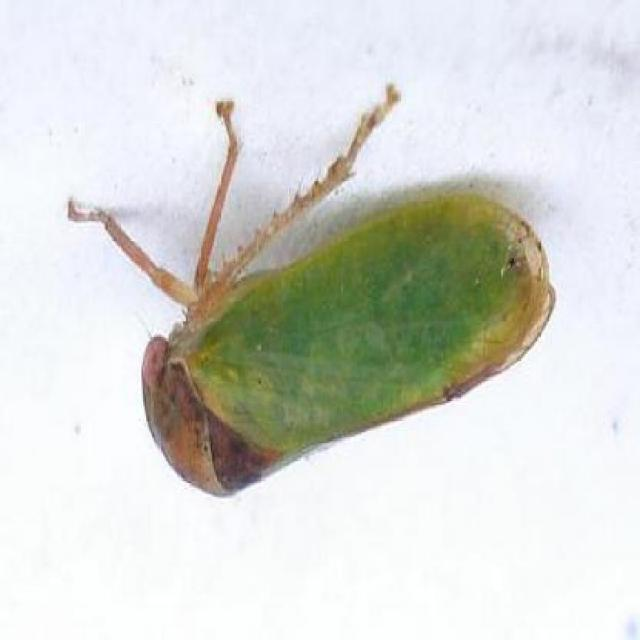green-leafhopper: (131, 178, 558, 496)
